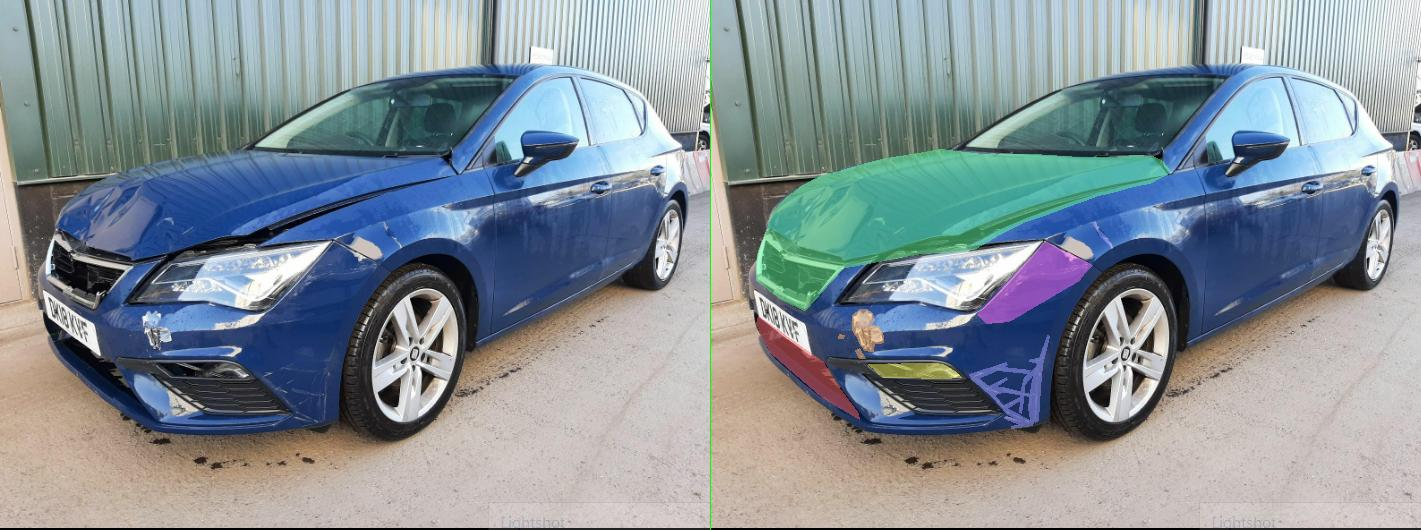Broken part: (112, 149, 921, 267), (90, 230, 268, 310)
Cracked: (314, 363, 500, 378)
Dent: (114, 176, 388, 261), (532, 242, 761, 323)
Missing part: (90, 316, 296, 419)
Paint chip: (282, 309, 344, 351), (288, 348, 308, 358), (254, 334, 266, 338)
Scratch: (516, 362, 644, 428), (568, 262, 763, 296), (616, 335, 676, 422), (763, 221, 803, 248)
